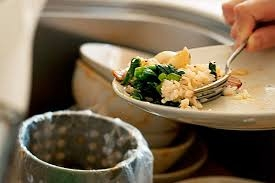kitchen_waste: (122, 55, 159, 102), (160, 76, 202, 110), (144, 46, 195, 73)
metal: (193, 41, 249, 102)
plastic: (10, 107, 156, 183)
